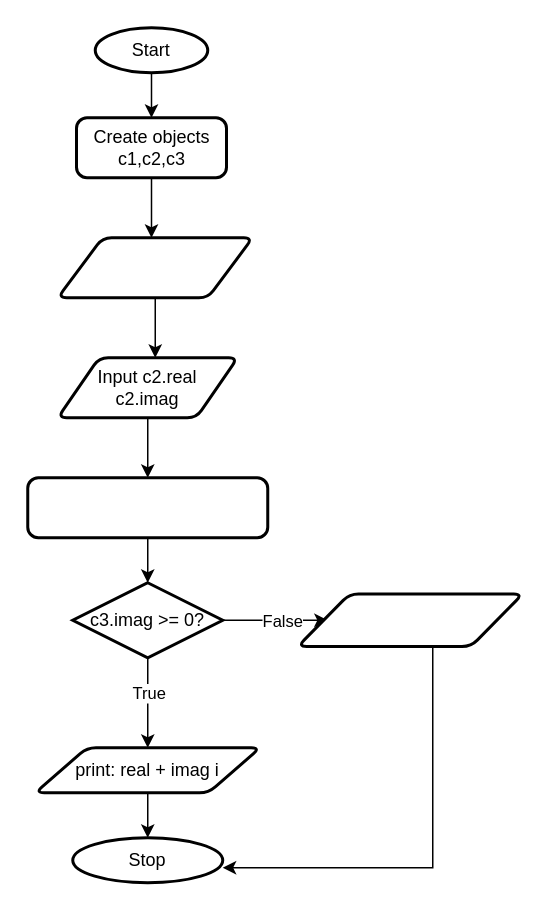
This 549x909 diagram has some shape labels left out. The shapes that lost their labels are listed below. From the top down, each one's centre as x and y in pixels, then its label:
At [155,267]: "Input c1.real c1.imag".
At [147,507]: "c3.real = c1.real+c2.real c3.imag = c1.imag+c2.imag".
At [410,619]: "print: real - |imag|".
